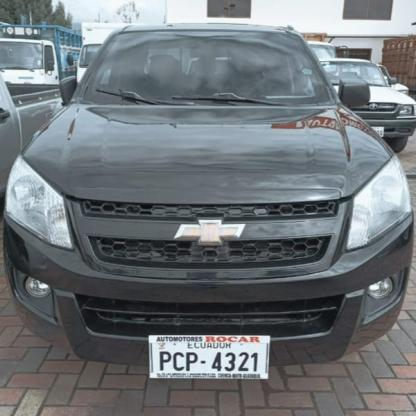Placa: (148, 334, 272, 384)
